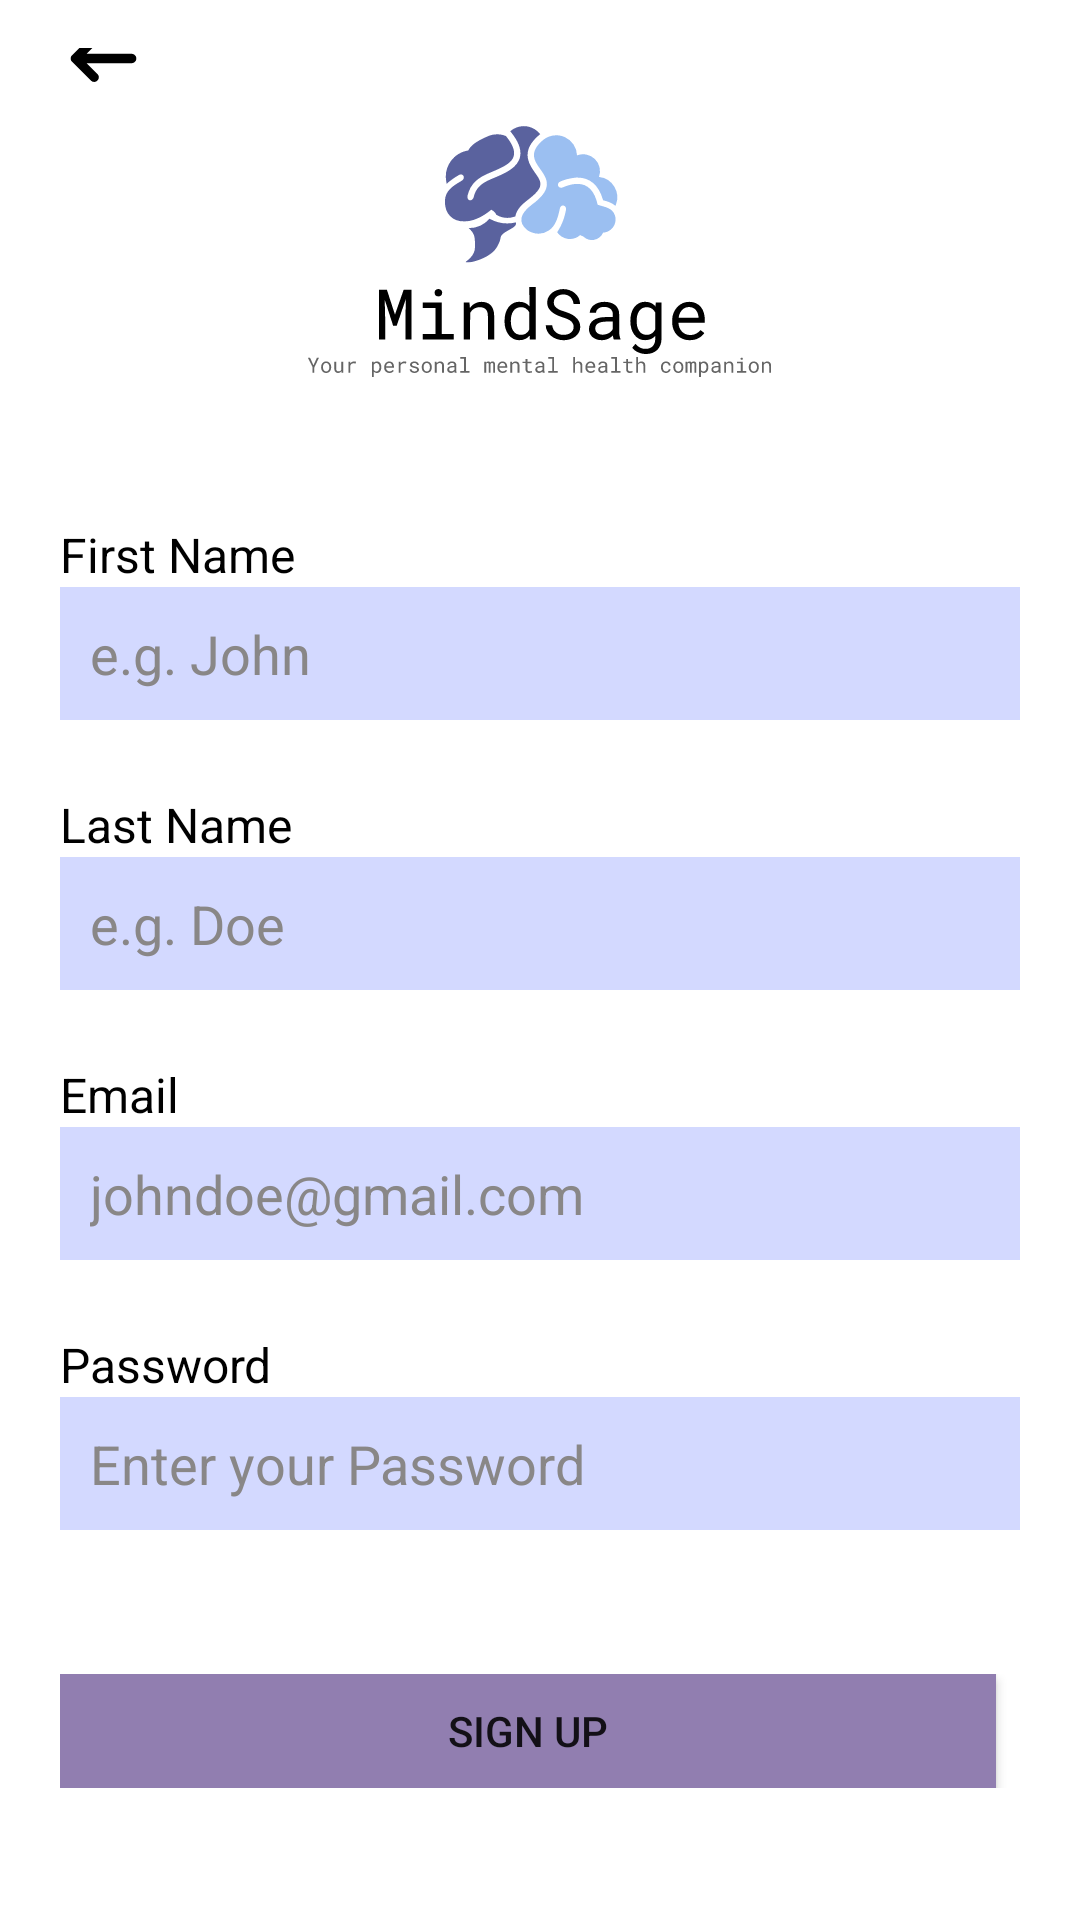

Screen size 1080×1920. Icon name, then its box in pixels as (x1, y1, x2, y2):
Back Button: (70, 48, 137, 82)
